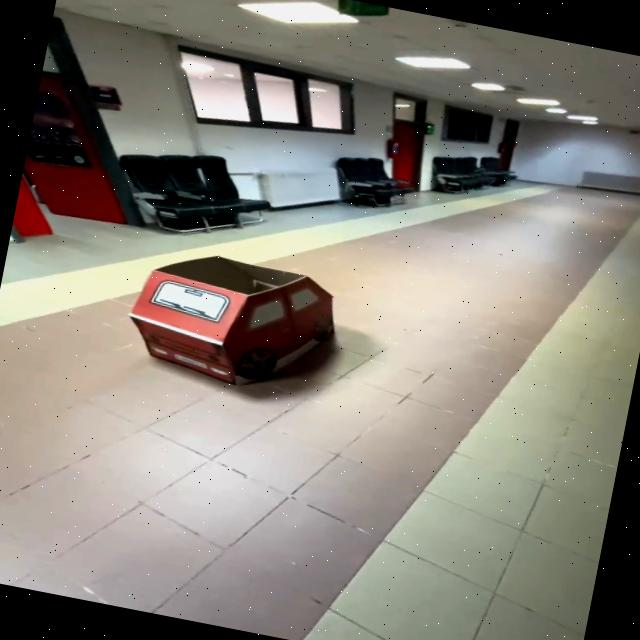red_car: (82, 228, 394, 430)
